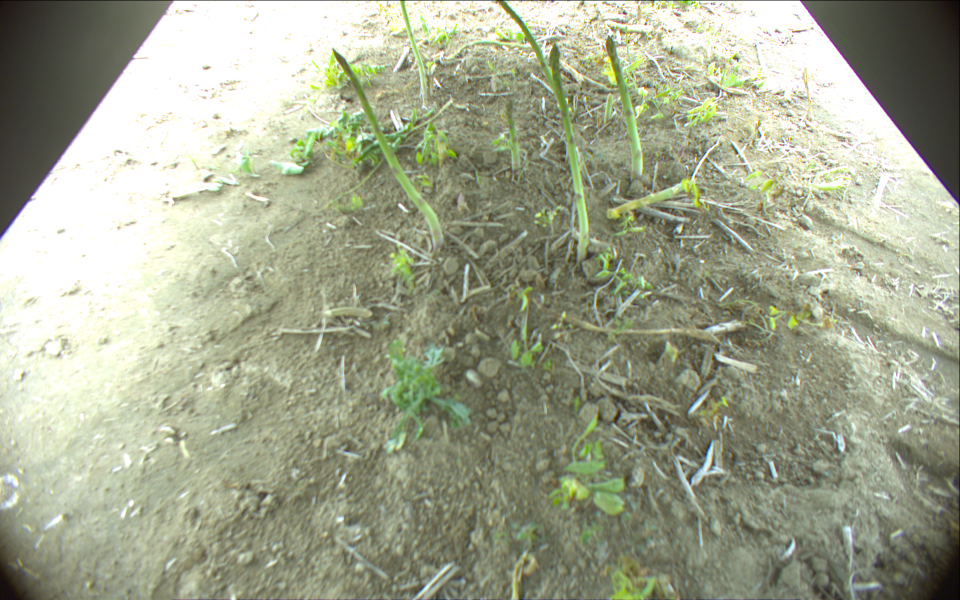aspa: (331, 45, 444, 248), (549, 43, 590, 261), (604, 36, 644, 183), (496, 1, 557, 96), (607, 181, 689, 220), (400, 1, 429, 108), (450, 38, 537, 59), (503, 101, 521, 172), (607, 20, 652, 34)
